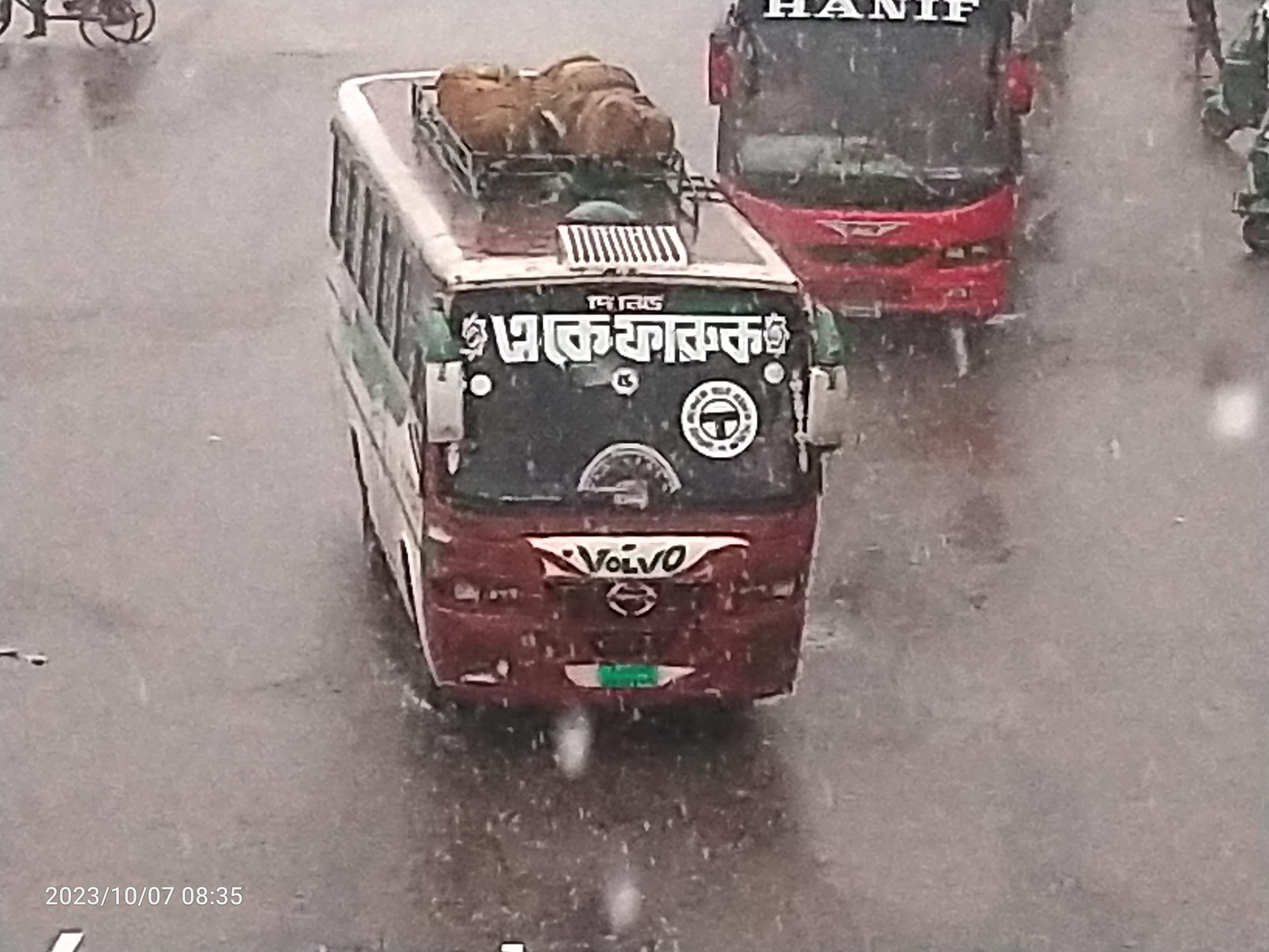Bus: (269, 23, 866, 773), (686, 0, 1088, 387)
Car: (0, 0, 178, 96)
